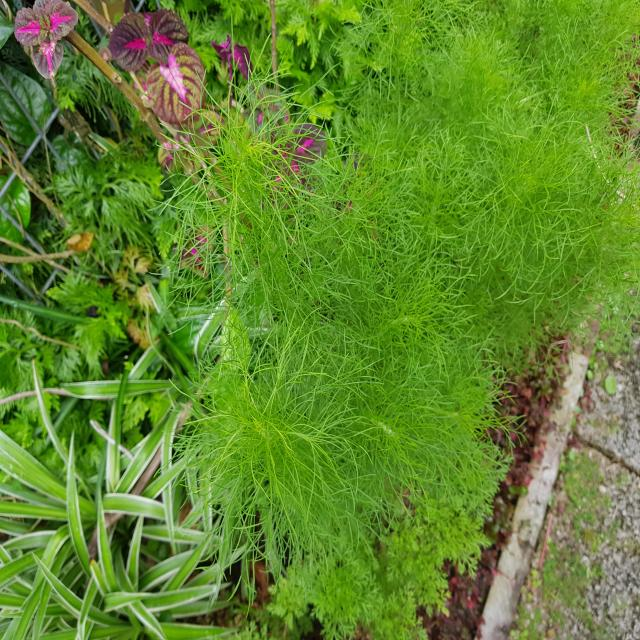Coleus: (105, 15, 218, 120), (9, 0, 88, 90)
Dill: (188, 128, 511, 518), (374, 10, 638, 317)
